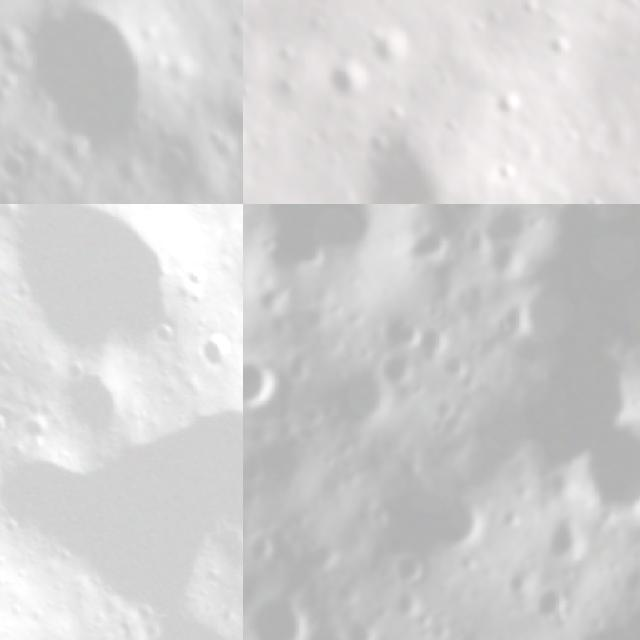crater: (0, 204, 193, 371), (9, 0, 166, 155), (357, 124, 466, 204), (585, 413, 640, 538), (472, 204, 551, 279), (418, 491, 492, 562), (321, 365, 390, 436), (176, 318, 243, 386), (243, 350, 292, 421), (243, 591, 312, 640), (376, 306, 426, 361), (326, 53, 376, 104), (540, 517, 594, 564), (404, 222, 454, 270), (368, 26, 418, 72), (538, 584, 583, 620), (490, 84, 530, 124), (243, 528, 279, 571), (389, 553, 426, 589), (503, 564, 538, 600), (541, 30, 576, 64), (339, 615, 382, 640), (491, 153, 520, 190), (272, 72, 298, 103), (623, 600, 640, 640), (0, 402, 17, 441), (576, 188, 607, 204)
